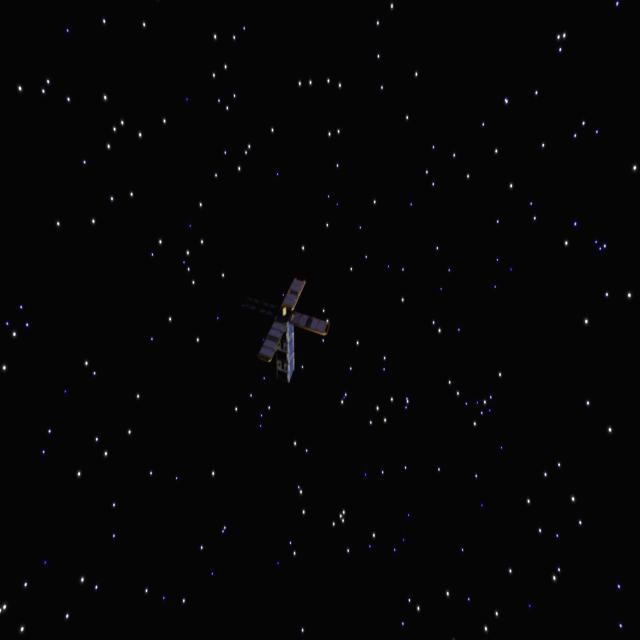medium_debris: (259, 273, 335, 387)
